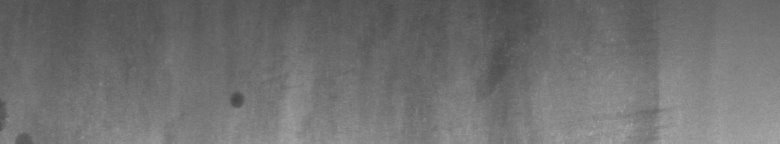fi: (228, 86, 248, 116)
